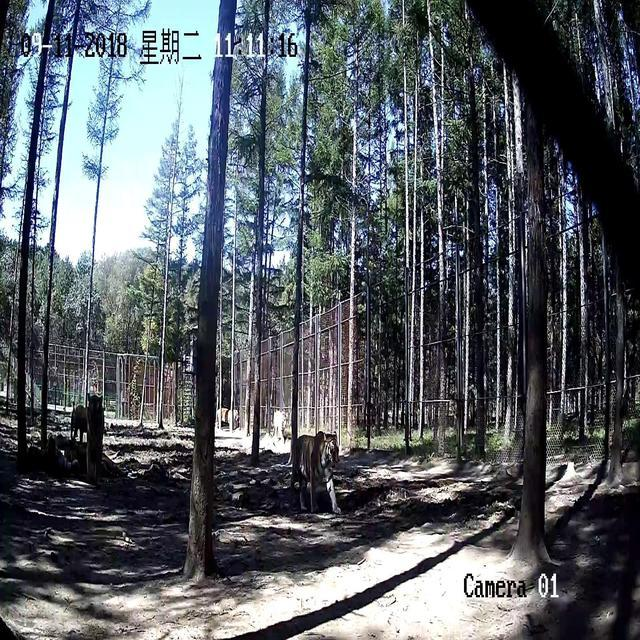tiger: (288, 430, 341, 514), (69, 403, 87, 442), (216, 406, 239, 430)
